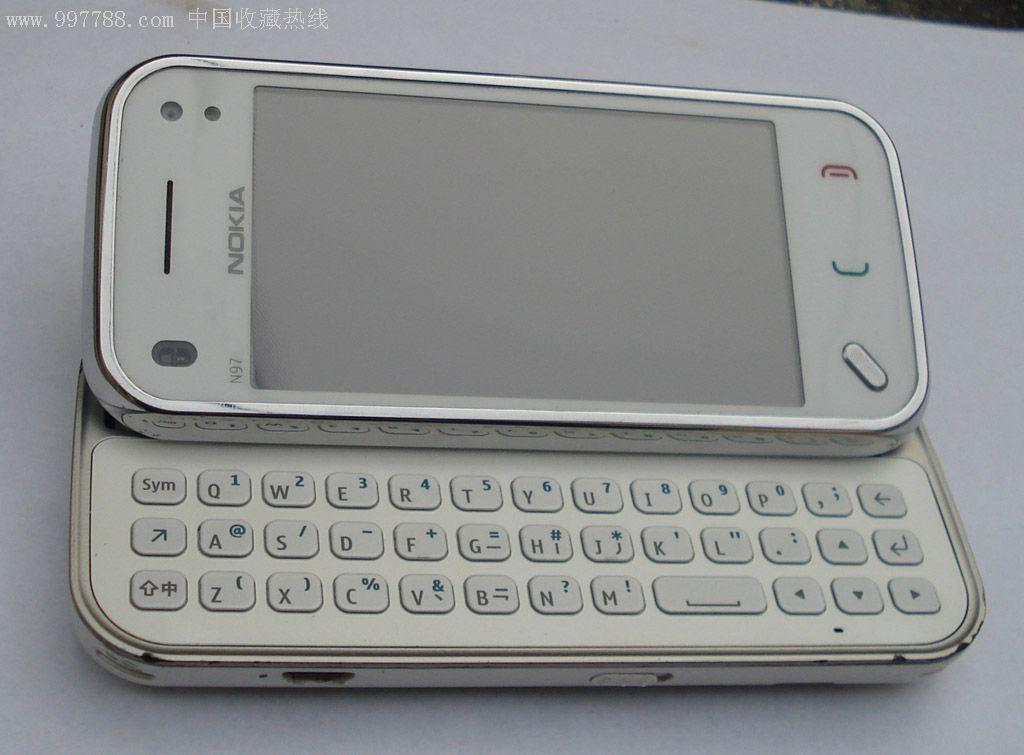phone: (96, 55, 971, 691)
